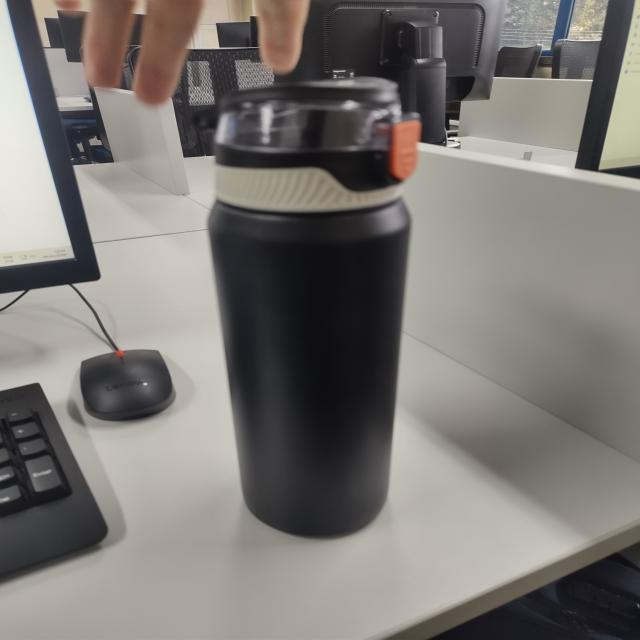Garrafa: (190, 67, 465, 546)
